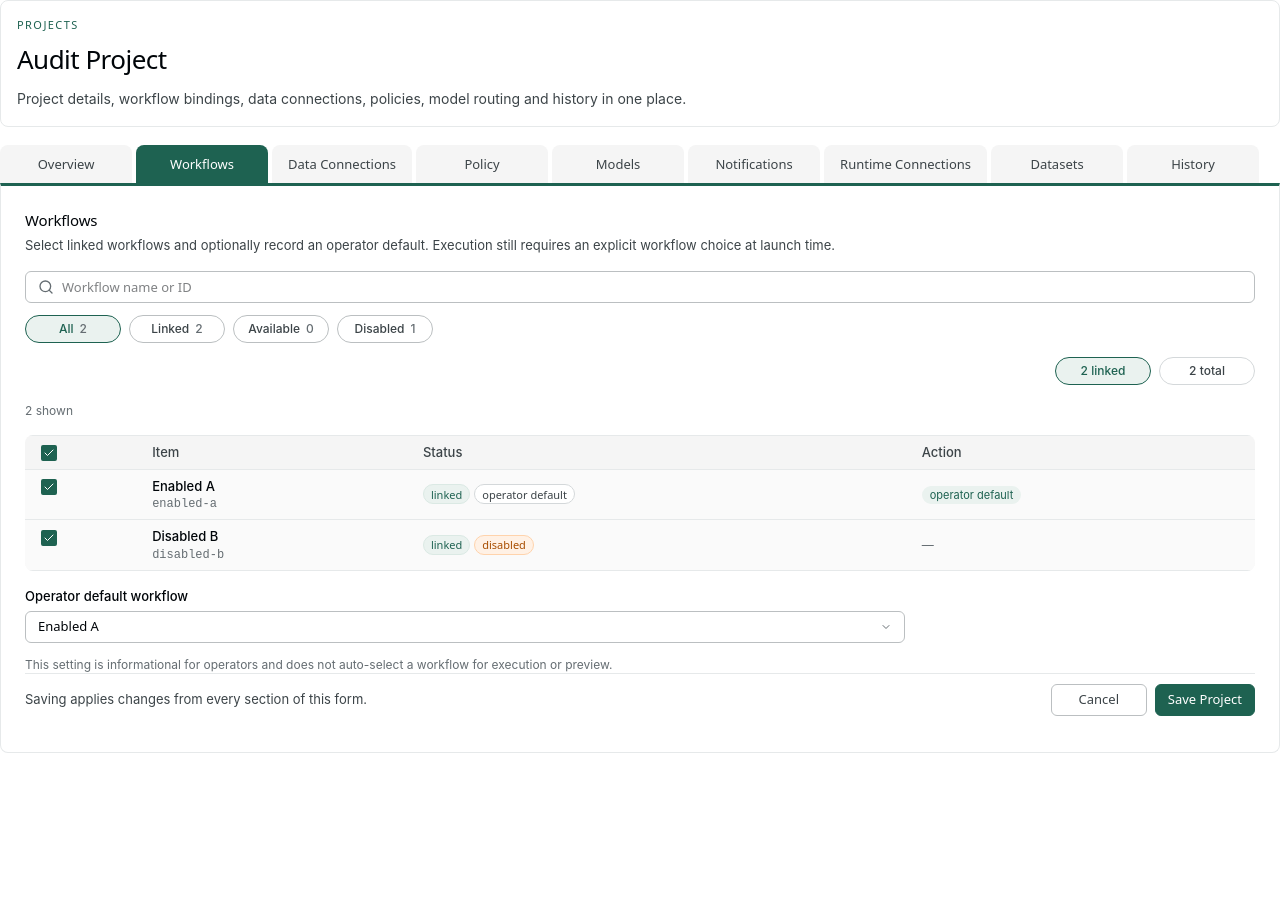
Test: ProjectsDetailPage › clears an unlinked operator default instead of inventing a disabled replacement and saves
This screenshot has width=1280, height=900.
expect the checkbox named "Toggle Disabled B" is checked: met, box left=41, top=530, right=57, bottom=546
expect the dropdown named "Operator default workflow" reads "Enabled A": met, box left=25, top=611, right=905, bottom=643
Click the checkbox named "Toggle Enabled A". click: (49, 487)
box: left=41, top=479, right=57, bottom=495
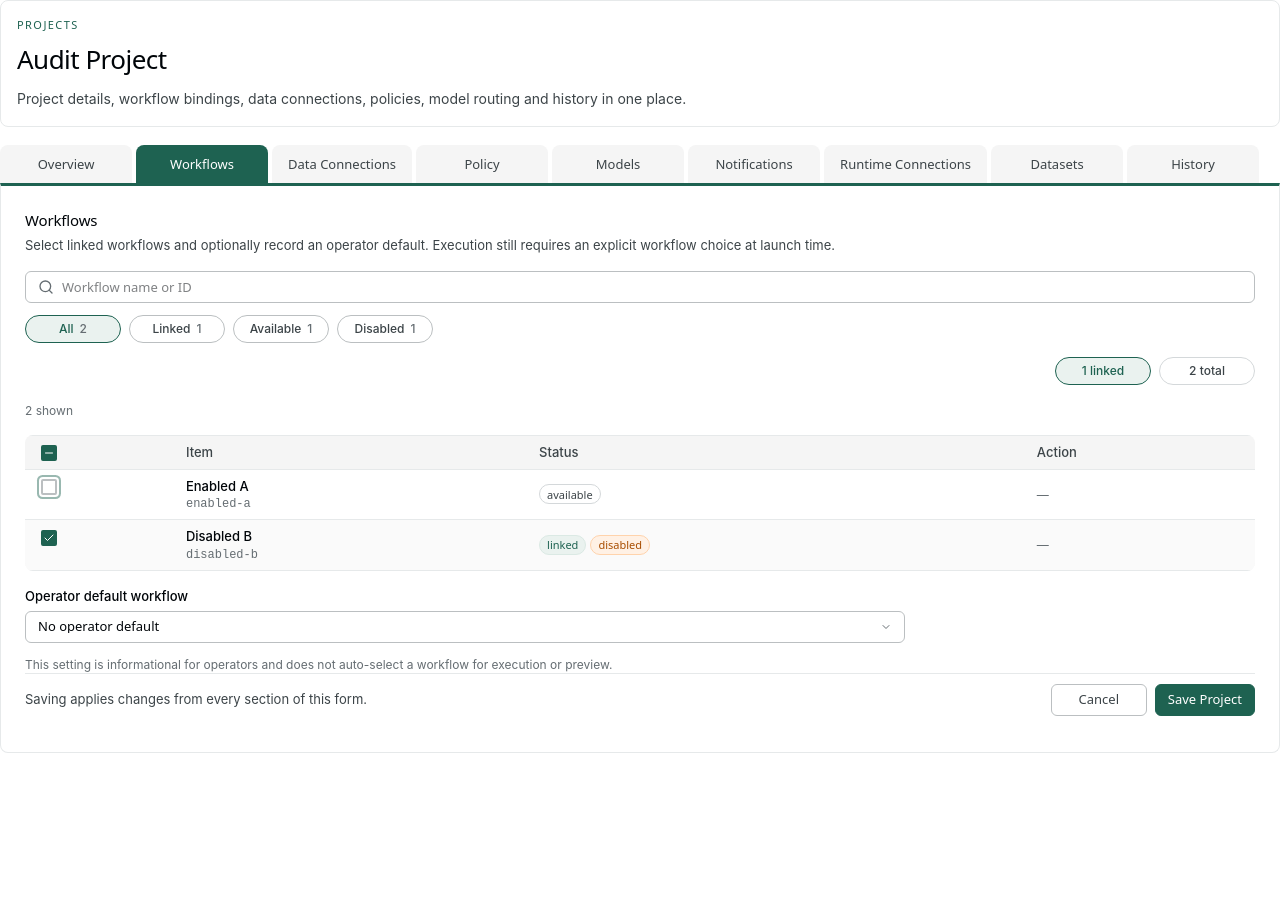
expect the checkbox named "Toggle Disabled B" is checked: met, box left=41, top=530, right=57, bottom=546
expect the dropdown named "Operator default workflow" reads "No operator default": met, box left=25, top=611, right=905, bottom=643
Click the button "Save Project". click: (1205, 700)
box: left=1155, top=684, right=1255, bottom=716
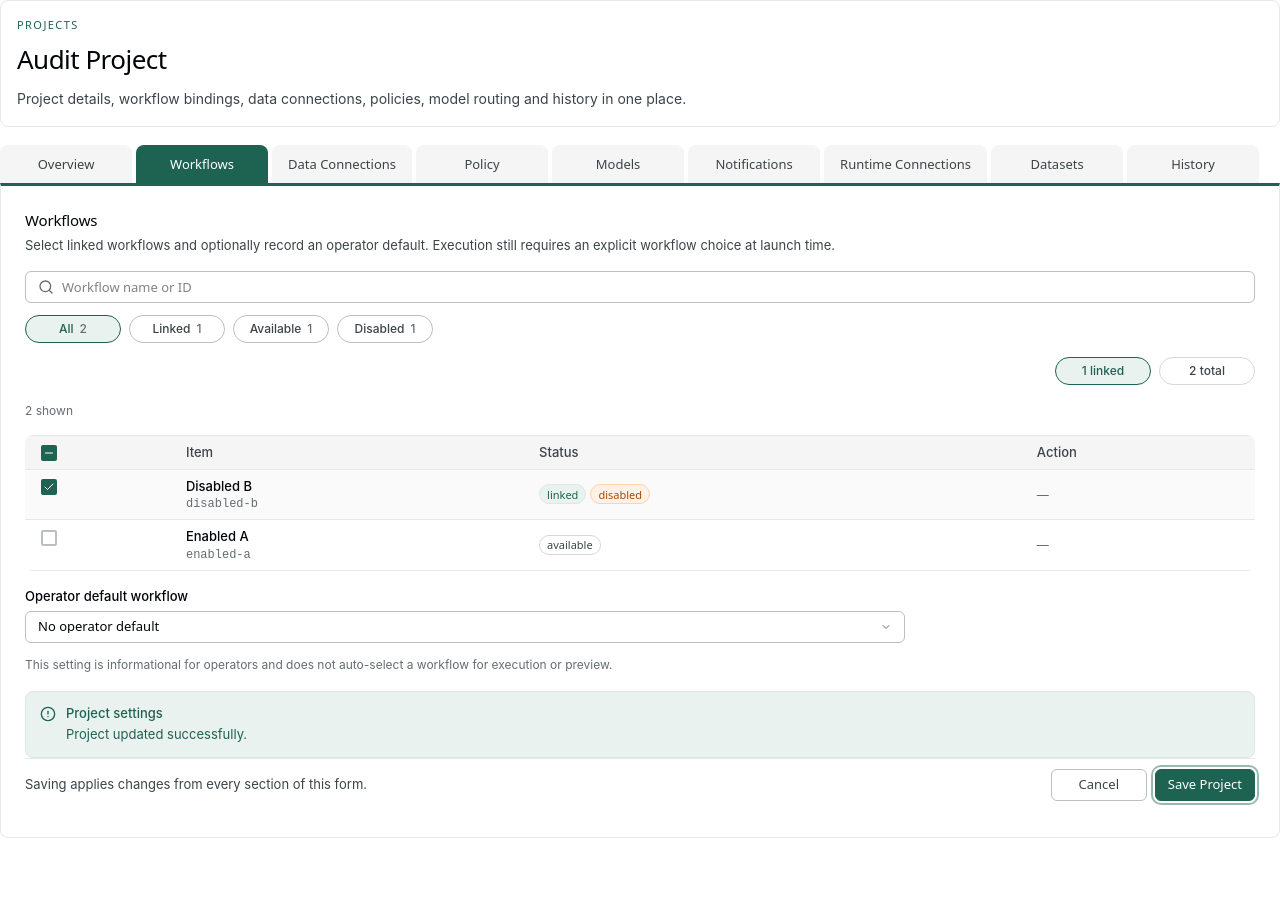
expect the text "Project updated successfully." is shown: met, box left=66, top=726, right=247, bottom=742
